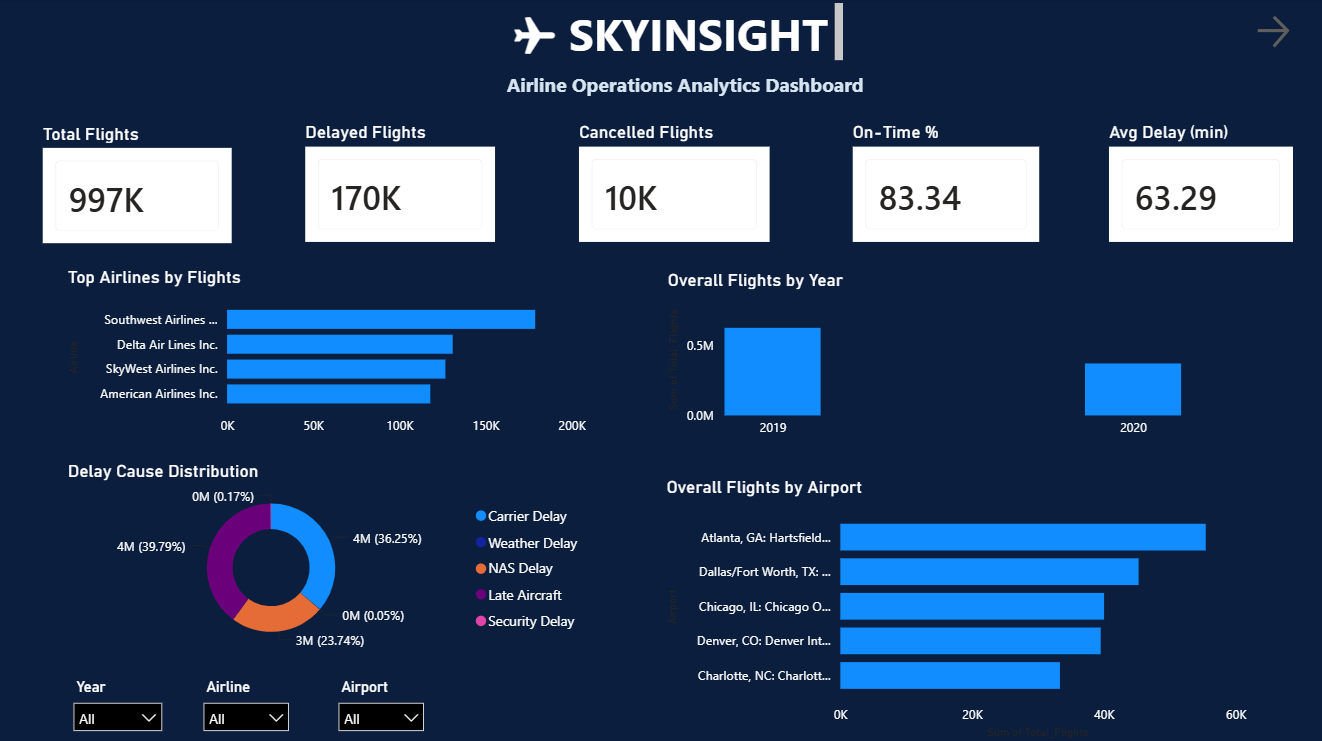

The dashboard page shown, as its layout file describes it:
{"tool":"powerbi","page":{"name":"Executive Overview ","canvas":[1280,720],"ordinal":0},"visuals":[{"type":"textbox","box":[484.4,0,334.8,65.9],"z":0},{"type":"textbox","box":[484.4,65.9,366.4,38.4],"z":1000},{"type":"cardVisual","title":"Total Flights","fields":{"Data":["Sum(airline_operations_cleaned.Total_Flights)"]},"box":[37,120.8,192.1,122.1],"z":2000},{"type":"cardVisual","title":"Delayed Flights","fields":{"Data":["Sum(airline_operations_cleaned.Delayed_Flights)"]},"box":[290.9,119.4,193.5,122.1],"z":3000},{"type":"cardVisual","title":"Avg Delay (min)","fields":{"Data":["Avg(airline_operations_cleaned.Average_Delay_Per_Flight)"]},"box":[1066.2,119.4,188,122.1],"z":4000},{"type":"cardVisual","title":"On-Time %","fields":{"Data":["Avg(airline_operations_cleaned.On_Time_Percentage)"]},"box":[819.2,119.4,190.7,122.1],"z":5000},{"type":"cardVisual","title":"Cancelled Flights","fields":{"Data":["Sum(airline_operations_cleaned.Cancelled_Flights)"]},"box":[554.4,119.4,194.9,122.1],"z":6000},{"type":"clusteredBarChart","title":"Top Airlines by Flights","fields":{"Category":["airline_operations_cleaned.Airline"],"Y":["Sum(airline_operations_cleaned.Total_Flights)"]},"box":[61.7,259.3,510.5,171.5],"z":7000},{"type":"donutChart","title":"Delay Cause Distribution","fields":{"Y":["Sum(airline_operations_cleaned.Carrier_Delay_Minutes)","Sum(airline_operations_cleaned.Weather_Delays)","Sum(airline_operations_cleaned.NAS_Delay_Minutes)","Sum(airline_operations_cleaned.Late_Aircraft_Delay_Minutes)","Sum(airline_operations_cleaned.Security_Delay_Minutes)"]},"box":[61.7,446,510.5,188],"z":8000},{"type":"clusteredColumnChart","title":"Overall Flights by Year","fields":{"Category":["airline_operations_cleaned.Year"],"Y":["Sum(airline_operations_cleaned.Total_Flights)"]},"box":[640.6,261.8,505.5,171.3],"z":9000},{"type":"barChart","title":"Overall Flights by Airport","fields":{"Category":["airline_operations_cleaned.Airport"],"Y":["Sum(airline_operations_cleaned.Total_Flights)"]},"box":[639.5,462.4,569.5,258],"z":10000},{"type":"slicer","fields":{"Values":["airline_operations_cleaned.Year"]},"box":[61.7,651.8,105.7,68.6],"z":11000},{"type":"slicer","fields":{"Values":["airline_operations_cleaned.Airline"]},"box":[186.6,651.8,102.9,68.6],"z":12000},{"type":"slicer","fields":{"Values":["airline_operations_cleaned.Airport"]},"box":[317,651.8,102.9,68.6],"z":13000},{"type":"actionButton","box":[1208.5,11.9,59.6,40.9],"z":14000}]}

Visuals, with their boxes in screenshot pixels (x1, y1, x2, y2), scaled from the page's 1280x720 canvas onto the 1322x741 screenshot:
textbox: BBox(500, 0, 846, 68)
textbox: BBox(500, 68, 879, 107)
"Total Flights" cardVisual: BBox(38, 124, 237, 250)
"Delayed Flights" cardVisual: BBox(300, 123, 500, 249)
"Avg Delay (min)" cardVisual: BBox(1101, 123, 1295, 249)
"On-Time %" cardVisual: BBox(846, 123, 1043, 249)
"Cancelled Flights" cardVisual: BBox(573, 123, 774, 249)
"Top Airlines by Flights" clusteredBarChart: BBox(64, 267, 591, 443)
"Delay Cause Distribution" donutChart: BBox(64, 459, 591, 652)
"Overall Flights by Year" clusteredColumnChart: BBox(662, 269, 1184, 446)
"Overall Flights by Airport" barChart: BBox(660, 476, 1249, 740)
slicer - airline_operations_cleaned.Year: BBox(64, 671, 173, 740)
slicer - airline_operations_cleaned.Airline: BBox(193, 671, 299, 740)
slicer - airline_operations_cleaned.Airport: BBox(327, 671, 434, 740)
actionButton: BBox(1248, 12, 1310, 54)
